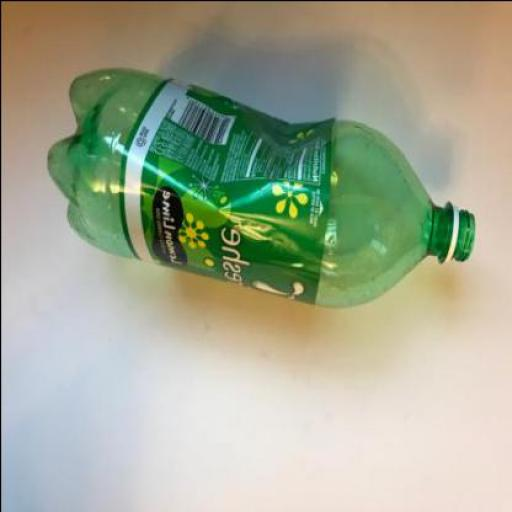plastic: (46, 65, 475, 304)
